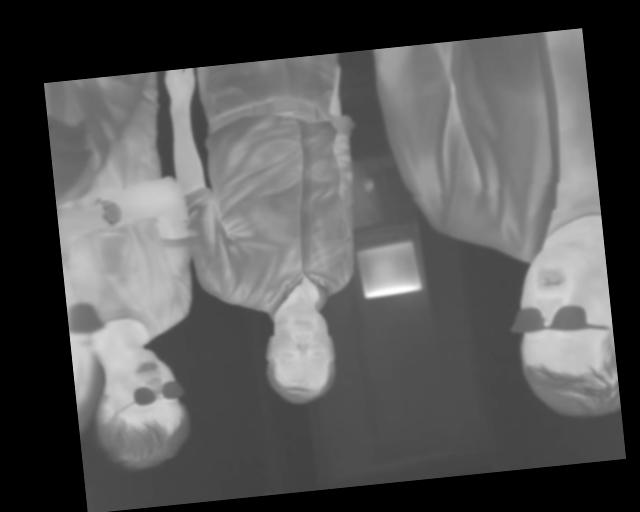face: (506, 236, 621, 425), (92, 343, 193, 475), (259, 301, 342, 408)
